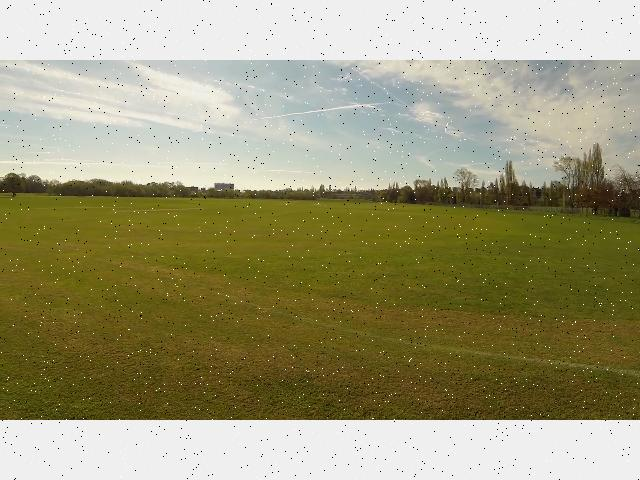Anti-Drone: (438, 116, 454, 134)
